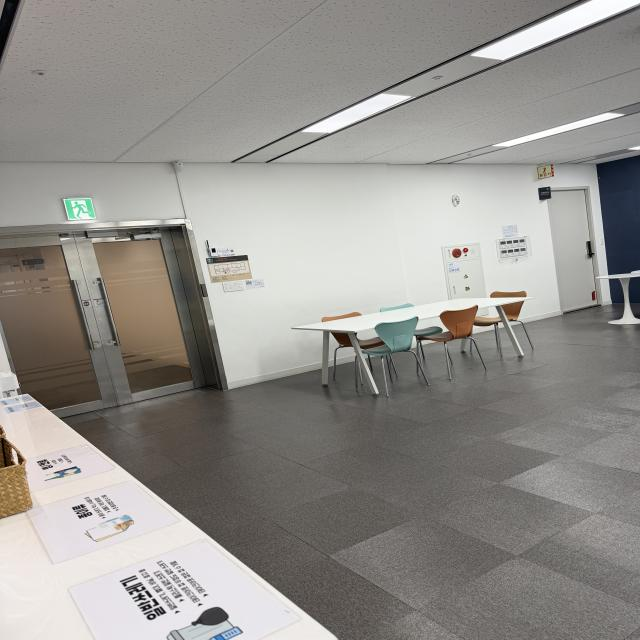rear_door: (0, 239, 215, 419)
